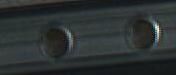joints: (121, 12, 162, 52), (37, 21, 73, 61)
